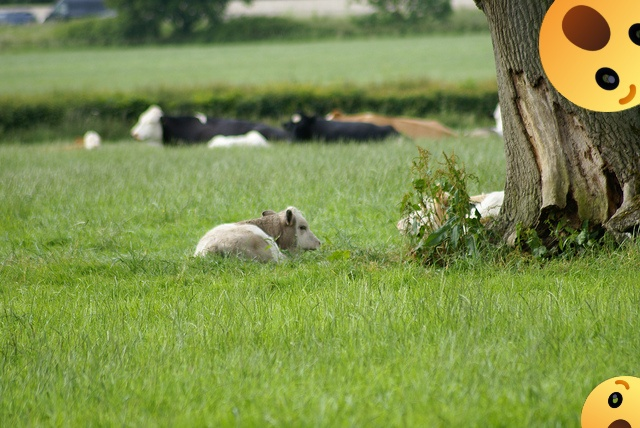wow: (539, 0, 640, 112), (581, 376, 640, 428)
